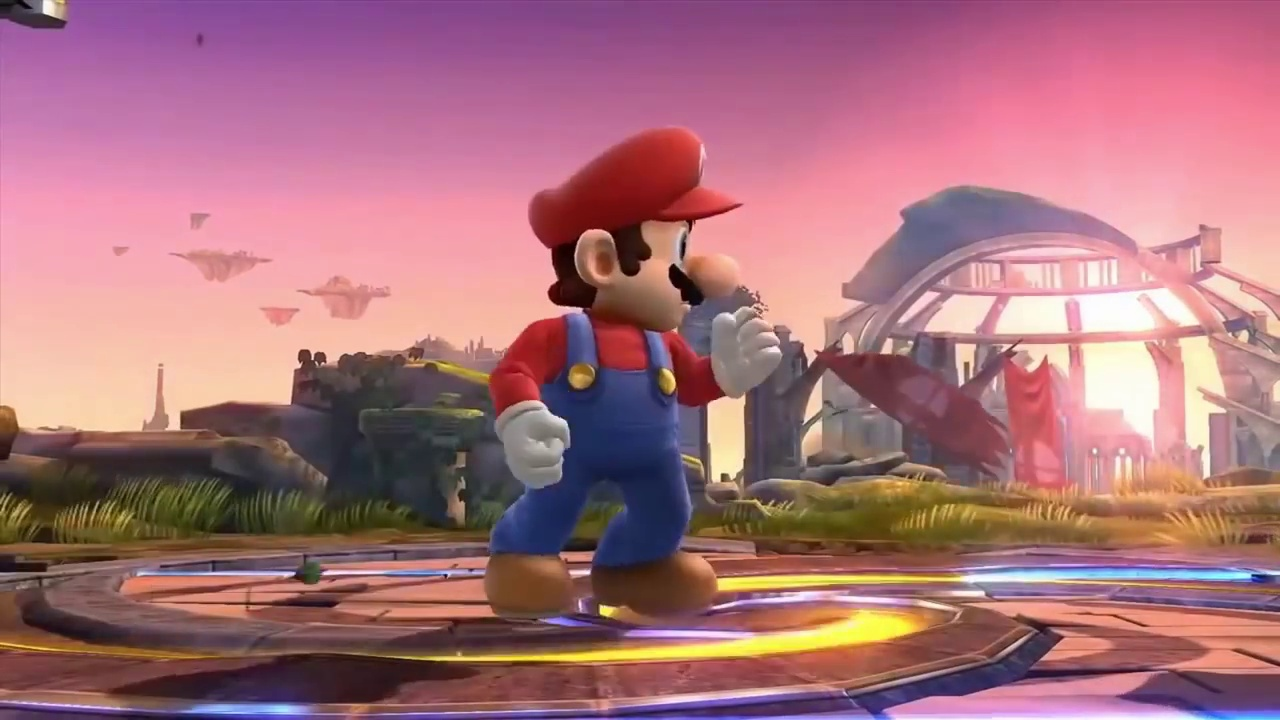Mario: (484, 127, 782, 618)
